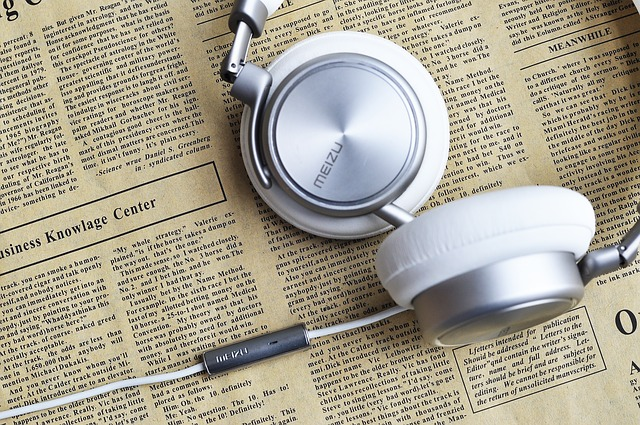headphones: (221, 1, 640, 347)
